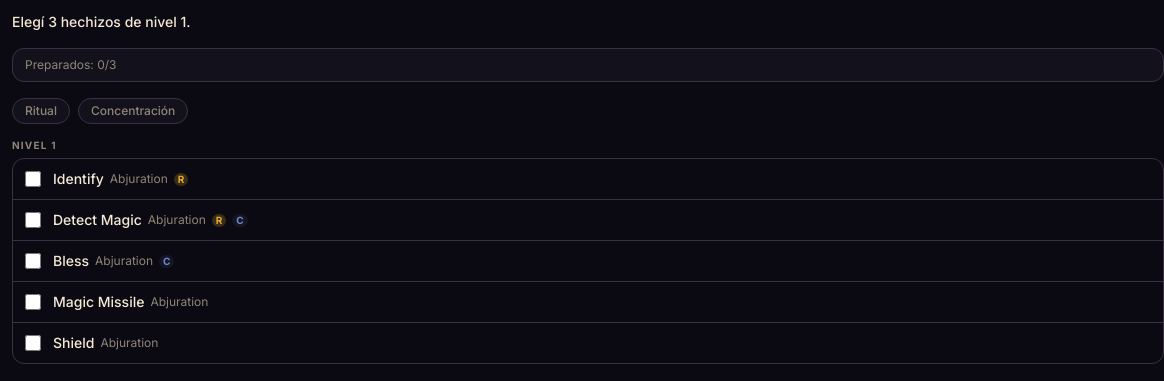
Test: SpellsPicker — filter chips (REQ-SP03-FILTER-RITUAL, SP03-S1) › A-RED-3: Both chips ON = AND intersection (ritual && concentration)
This screenshot has width=1164, height=381.
Click the button "Ritual": {"x": 41, "y": 111} [12,98,70,124]
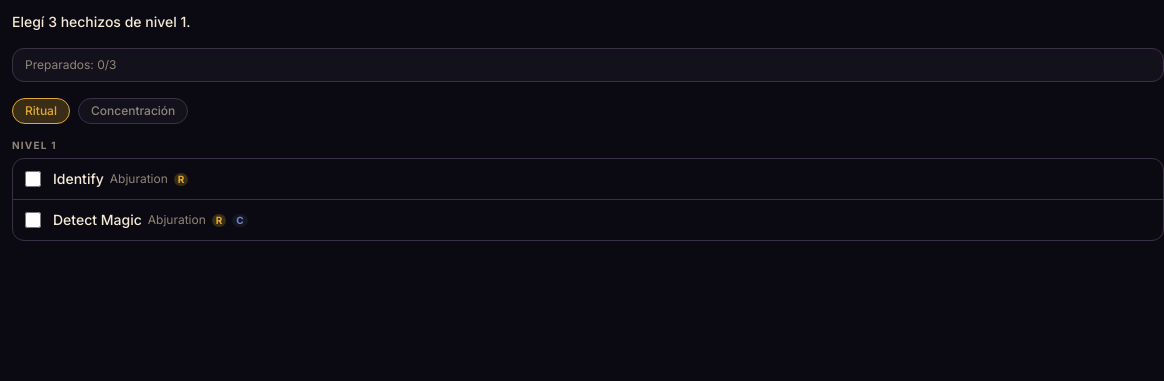
Click the button "Concentración": {"x": 133, "y": 111} [78,98,188,124]
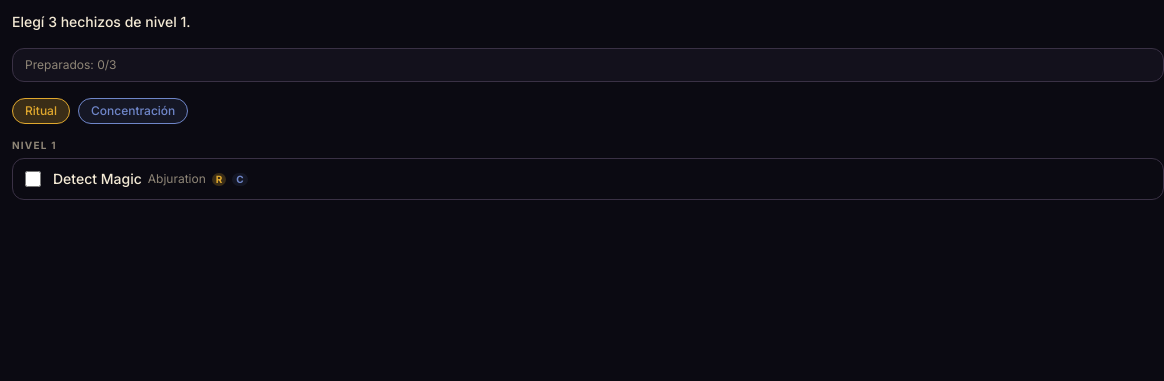
Check: the text "Detect Magic" is shown, box [53,169,142,189]
Check: the text "Identify" is gone
